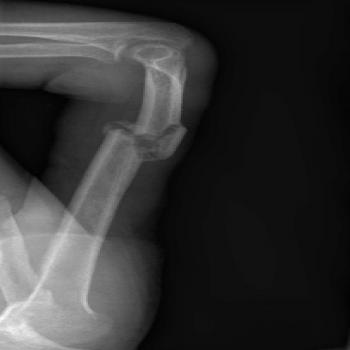Fracture: (94, 111, 199, 172)
